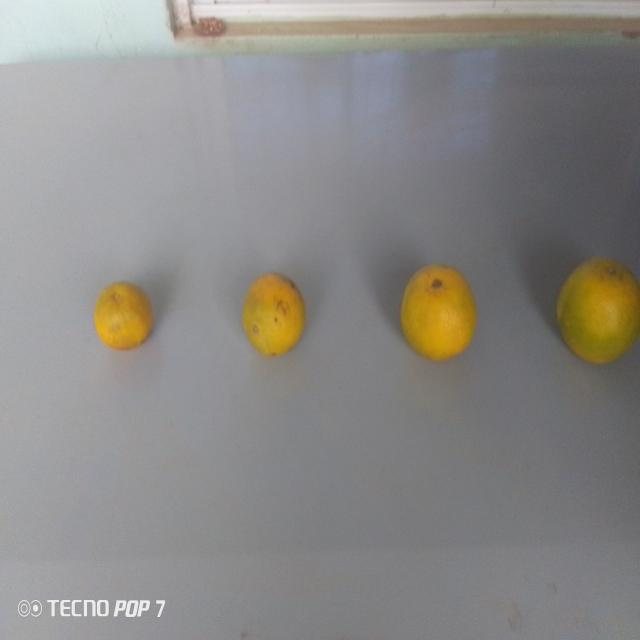Ripe orange: (554, 251, 640, 376), (394, 250, 482, 371), (234, 268, 308, 363), (95, 270, 156, 360)
